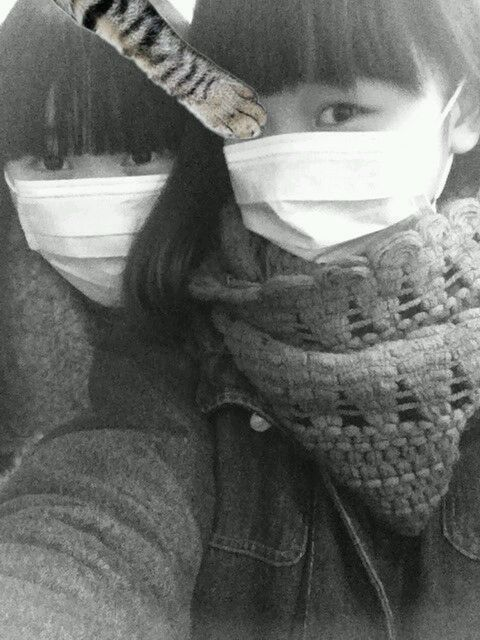face_mask: (229, 1, 441, 316), (7, 52, 199, 311)
